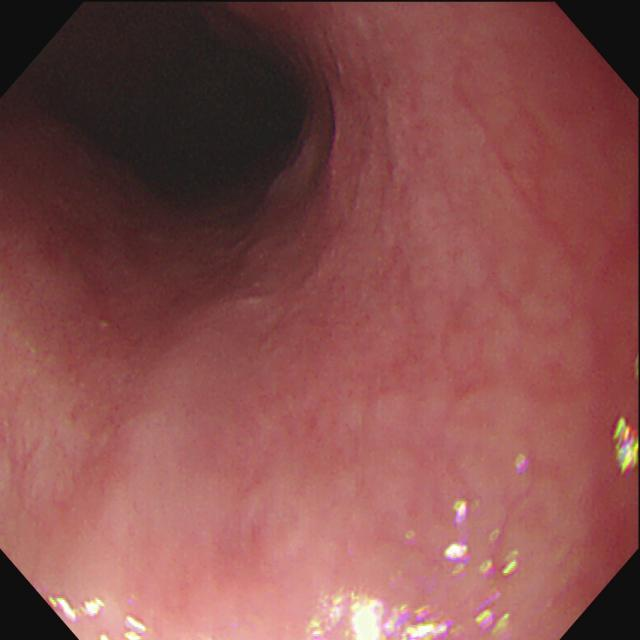E: (143, 47, 318, 194)
U: (309, 589, 454, 640), (444, 501, 470, 577), (476, 585, 511, 636), (614, 417, 640, 476), (50, 596, 108, 622), (480, 550, 522, 577), (125, 616, 147, 640)
